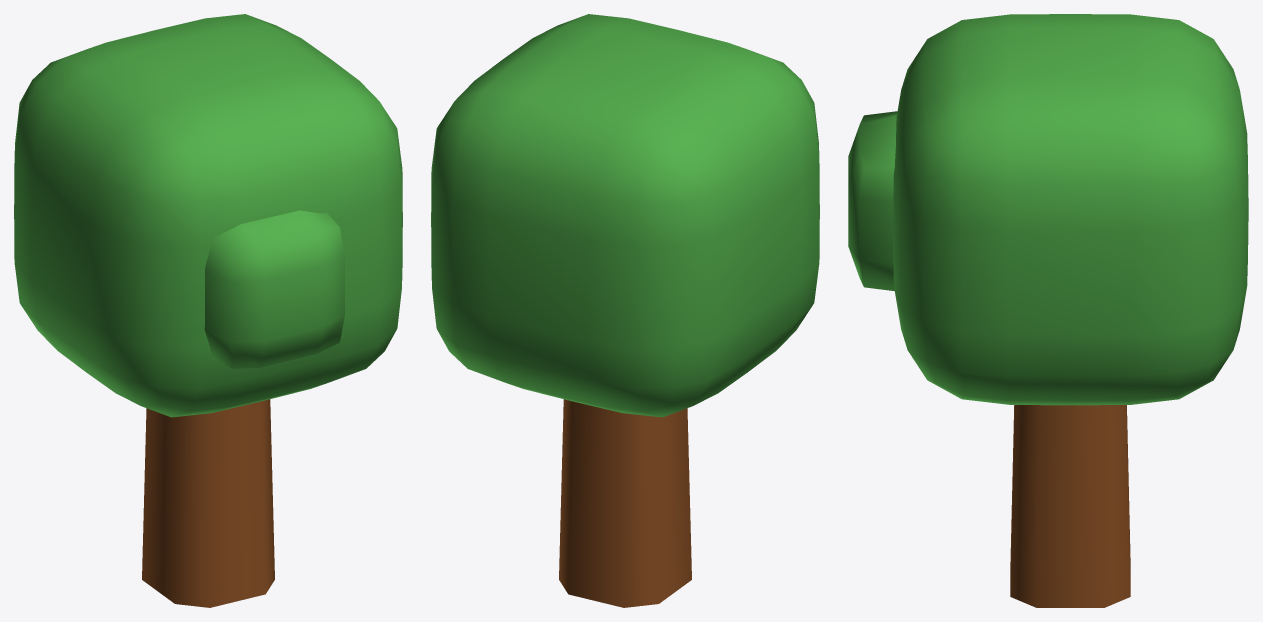
The model's file is tree01_s01.FBX.
The picture shows the model from 3 angles, left to right: view 1: azimuth 30°, elevation 25°; view 2: azimuth 150°, elevation 25°; view 3: azimuth 270°, elevation 25°; orthographic projection. The views are drawn at different scales.
Visible parts, largest first — view 1: tree01_s01; view 2: tree01_s01; view 3: tree01_s01.
Boxes of the visible parts, bbox=[...] form: tree01_s01: bbox=[14, 14, 402, 607]; tree01_s01: bbox=[431, 14, 819, 607]; tree01_s01: bbox=[848, 14, 1248, 607].
Bounding box in the file's own units: 152 × 173 × 253.
Materials: 1 (1 with a texture image).
